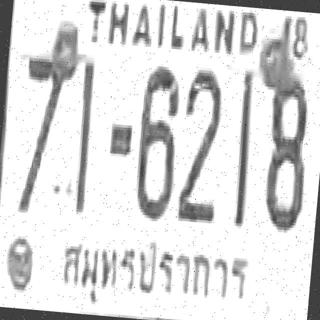N01: (229, 67, 257, 228), (70, 55, 97, 214)
N02: (175, 66, 225, 221)
N06: (132, 64, 183, 218)
N07: (12, 34, 80, 216)
N08: (253, 65, 313, 228)
P57: (57, 228, 251, 316)
